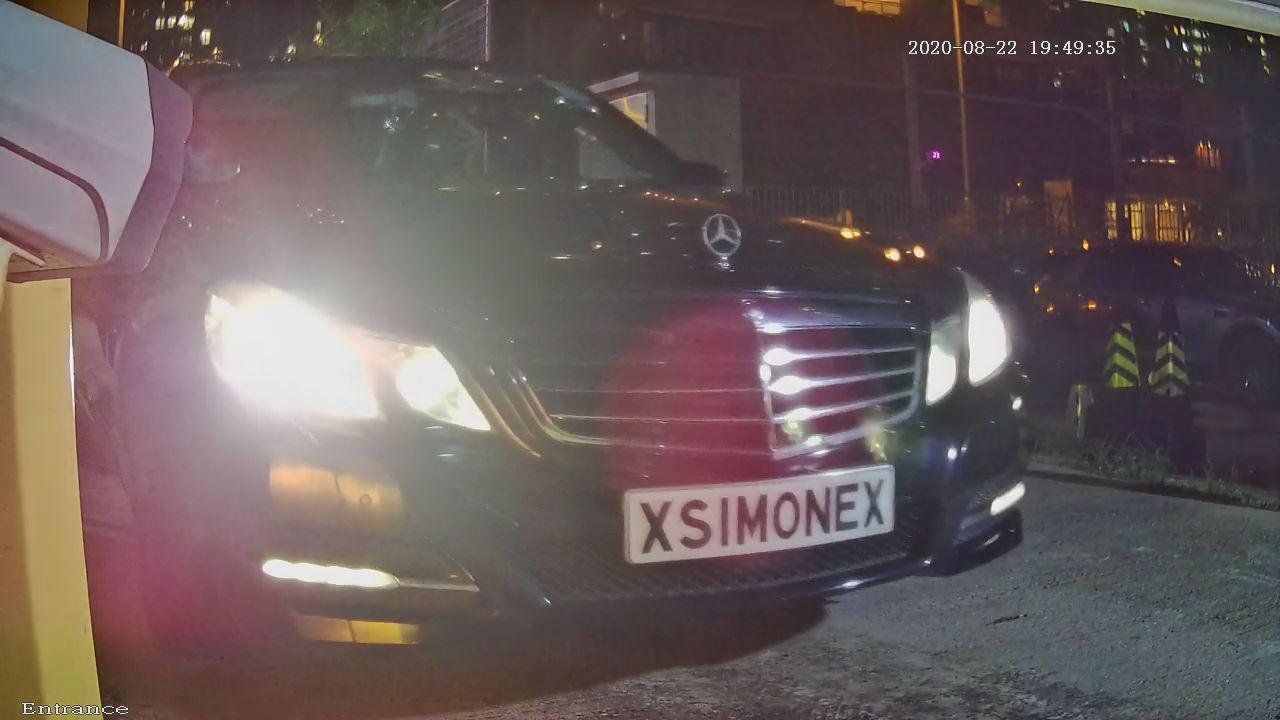License Plate: (586, 436, 941, 597)
